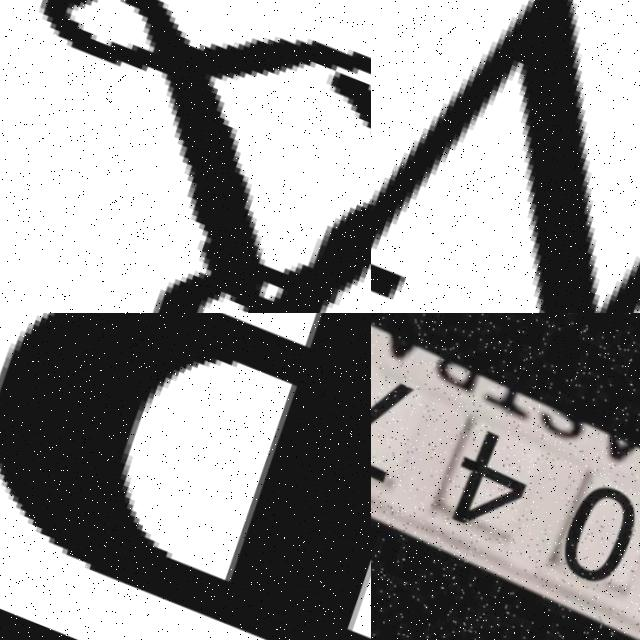0: (528, 461, 640, 608)
4: (419, 411, 557, 559)
7: (371, 349, 442, 501)
N: (371, 0, 640, 313)
P: (0, 313, 371, 640)
R: (50, 56, 371, 313)
